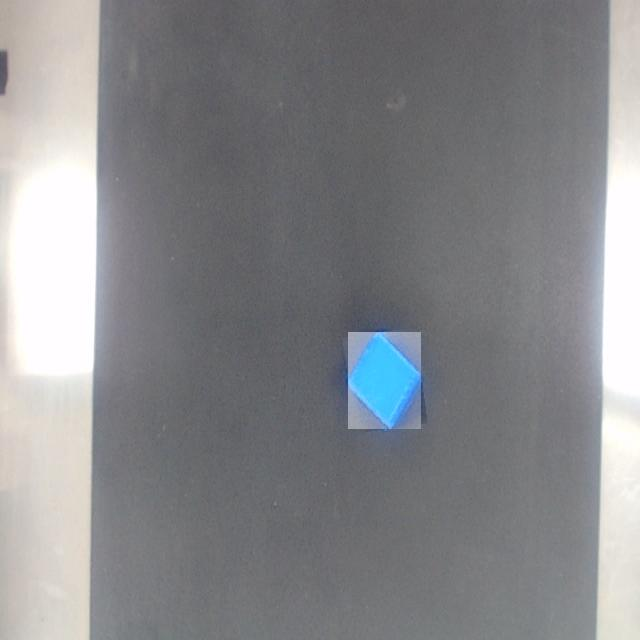Azul: (348, 332, 421, 429)
